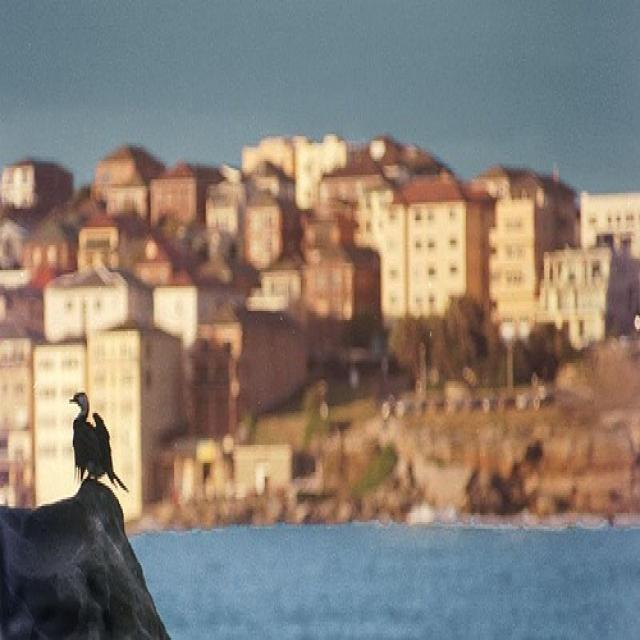bird: (69, 391, 128, 496)
